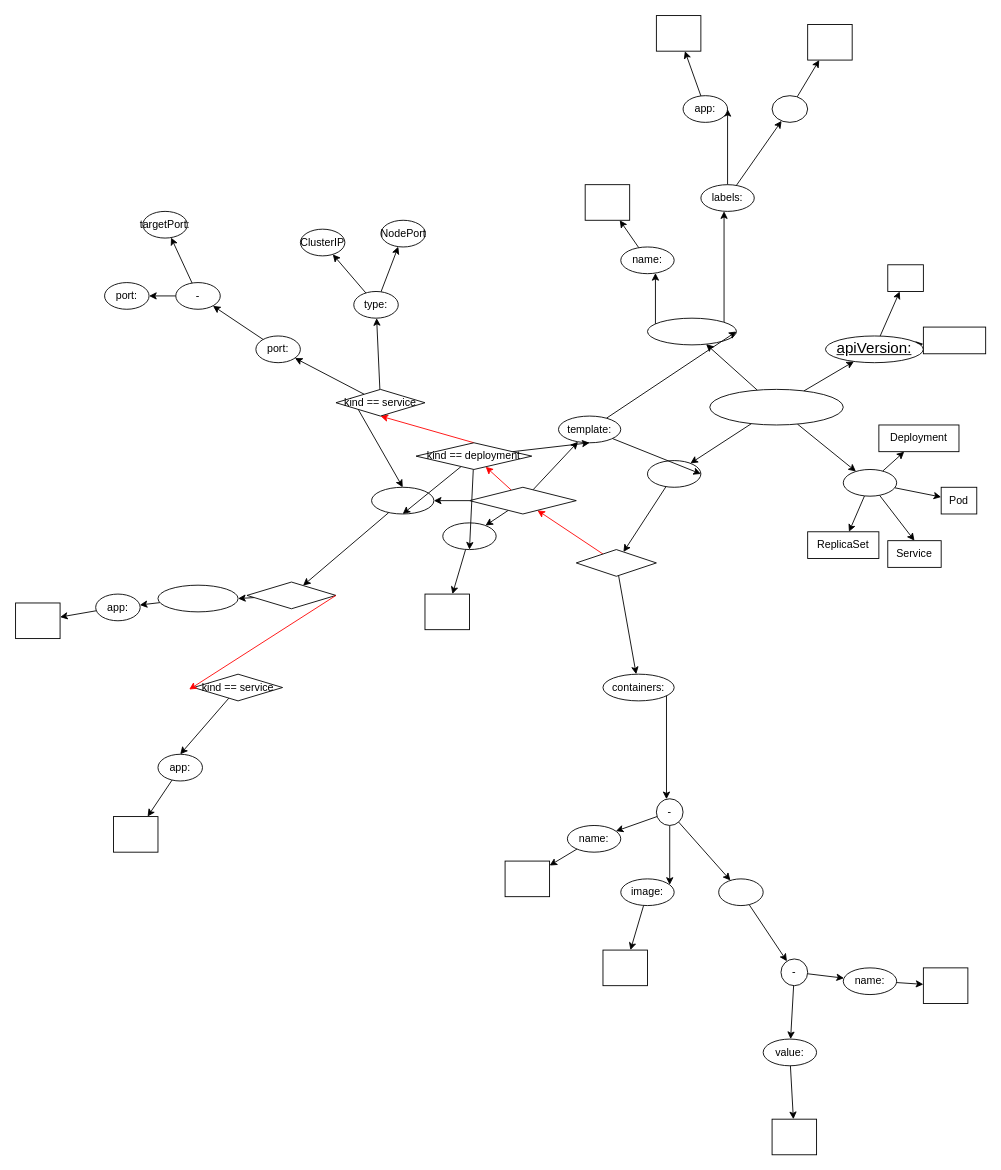
The diagram is 1001 pixels wide and 1170 high, and some of its shapes have lost their labels. Here are the shapes that lost their labels. From the top down, the centre of each, then its label:
At pixel 789 108: "tier:".
At pixel 905 277: "v1".
At pixel 691 331: "metadata:".
At pixel 954 340: "apps/v1".
At pixel 776 406: "K8s yaml file".
At pixel 674 473: "spec:".
At pixel 869 482: "kind:".
At pixel 402 500: "selector:".
At pixel 522 500: "kind == replicaset".
At pixel 469 536: "replica:".
At pixel 615 562: "kind == pod".
At pixel 197 598: "matchLabels:".
At pixel 291 595: "kind == service, replicaset, deployment".
At pixel 740 892: "env:".
